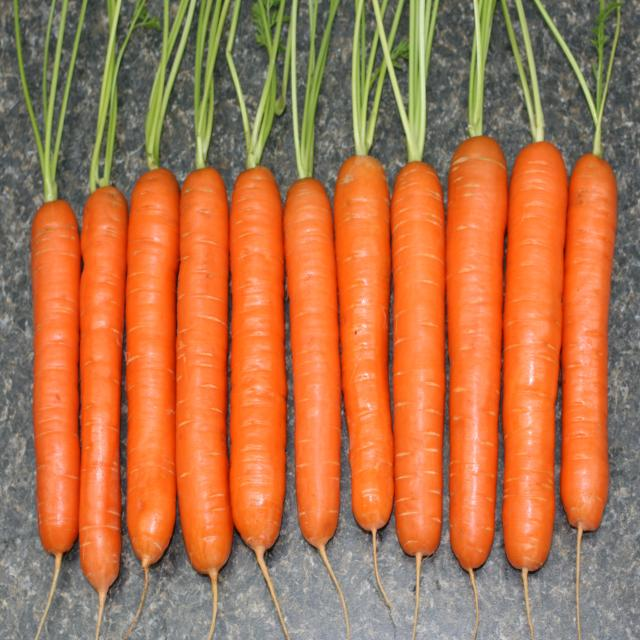carrot: (502, 141, 567, 636), (446, 136, 507, 636), (283, 178, 349, 638), (229, 166, 288, 638), (560, 154, 617, 636), (334, 156, 394, 607), (176, 167, 233, 638), (391, 161, 445, 638), (126, 168, 180, 630), (79, 186, 128, 639), (31, 200, 81, 640)
